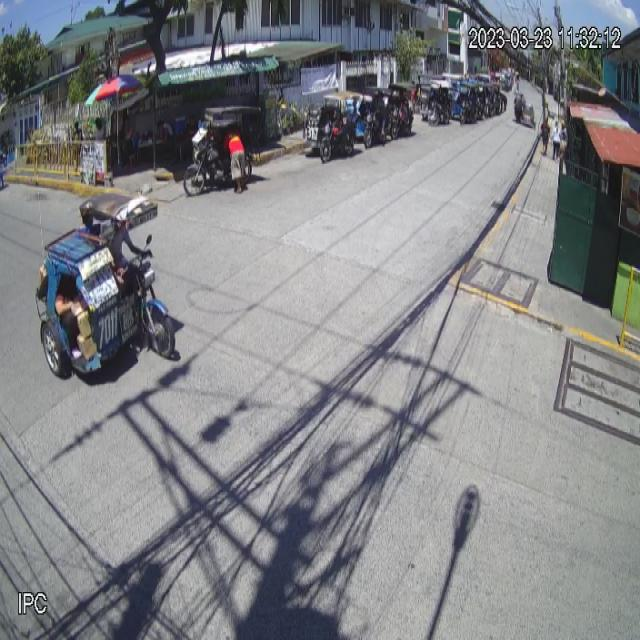Tricycle: (36, 191, 176, 383)
